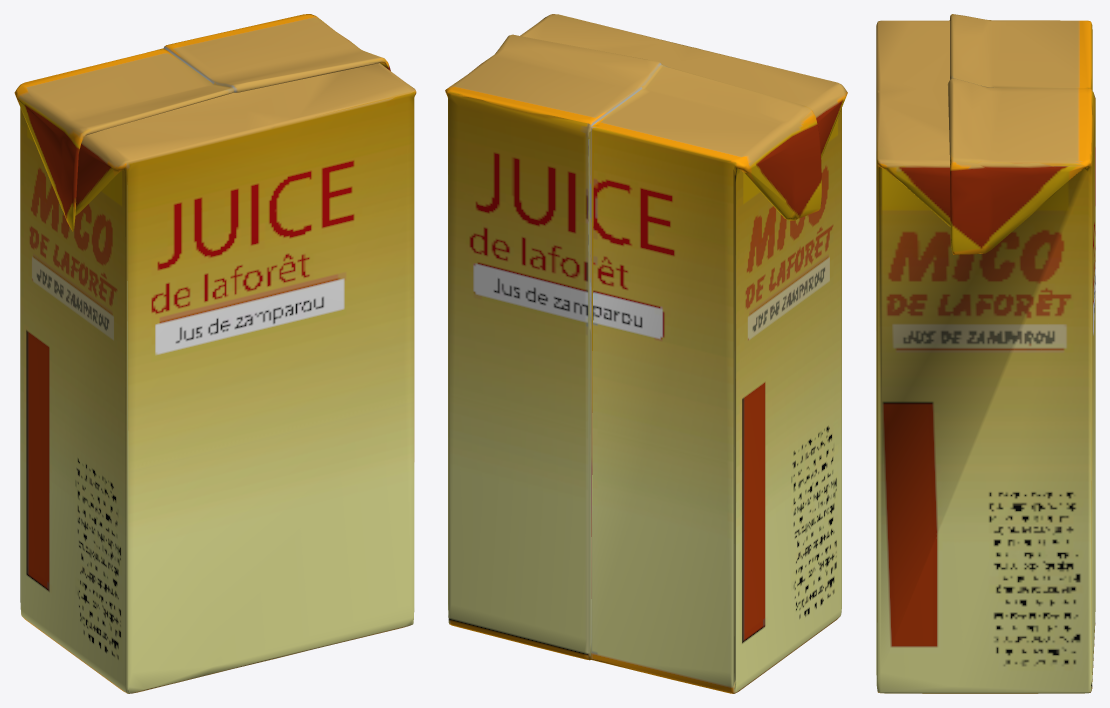
File: juicecan_dynamic.gltf
3 renders of one model, left to right at view 1: azimuth 30°, elevation 25°; view 2: azimuth 150°, elevation 25°; view 3: azimuth 270°, elevation 25°, orthographic.
Parts seen in each view (by area): view 1: JuiceCan; view 2: JuiceCan; view 3: JuiceCan.
Part boxes in pixels (x1,y1,x2,y2): JuiceCan: [14, 14, 416, 693]; JuiceCan: [445, 14, 847, 693]; JuiceCan: [876, 14, 1095, 693].
Bounding box in the file's own units: 0.1084 × 0.1761 × 0.0639.
1 material, 1 textured.
